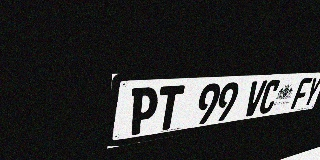9: (194, 83, 222, 125), (214, 82, 241, 122)
C: (257, 79, 282, 115)
F: (290, 78, 313, 109)
P: (128, 87, 160, 136)
T: (154, 85, 185, 131)
V: (242, 80, 268, 117)
Y: (301, 77, 320, 107)
